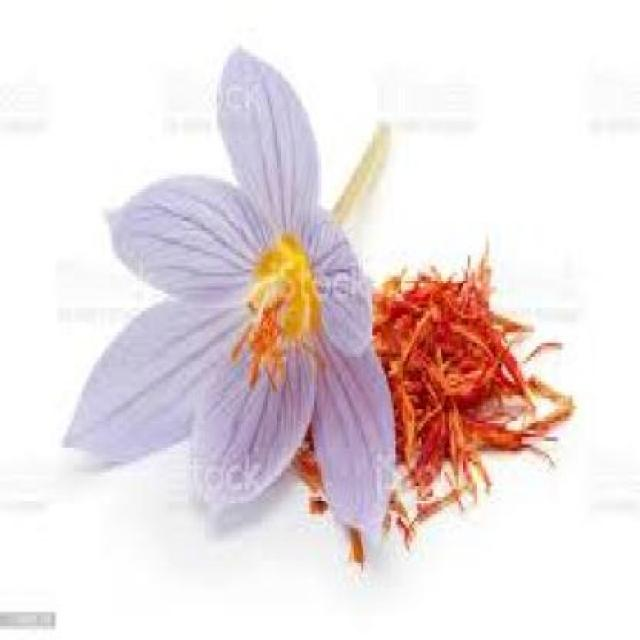saffron open: (66, 51, 395, 548)
